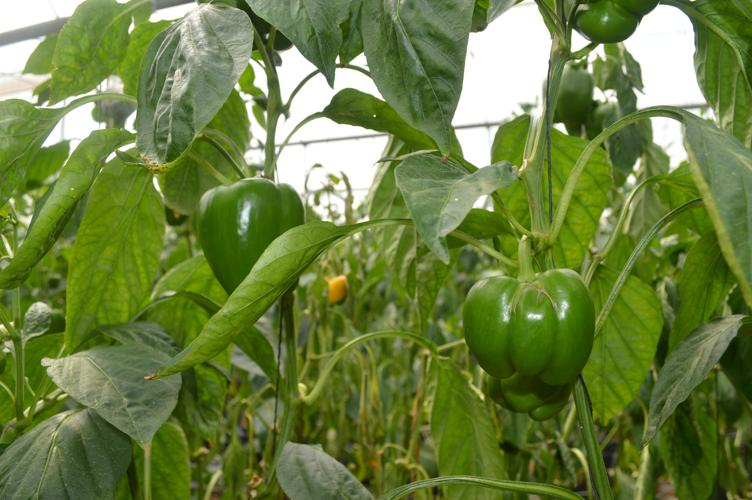BellPepper: (466, 269, 593, 384), (201, 179, 305, 291), (478, 369, 575, 422), (555, 61, 595, 126), (576, 5, 637, 46)
